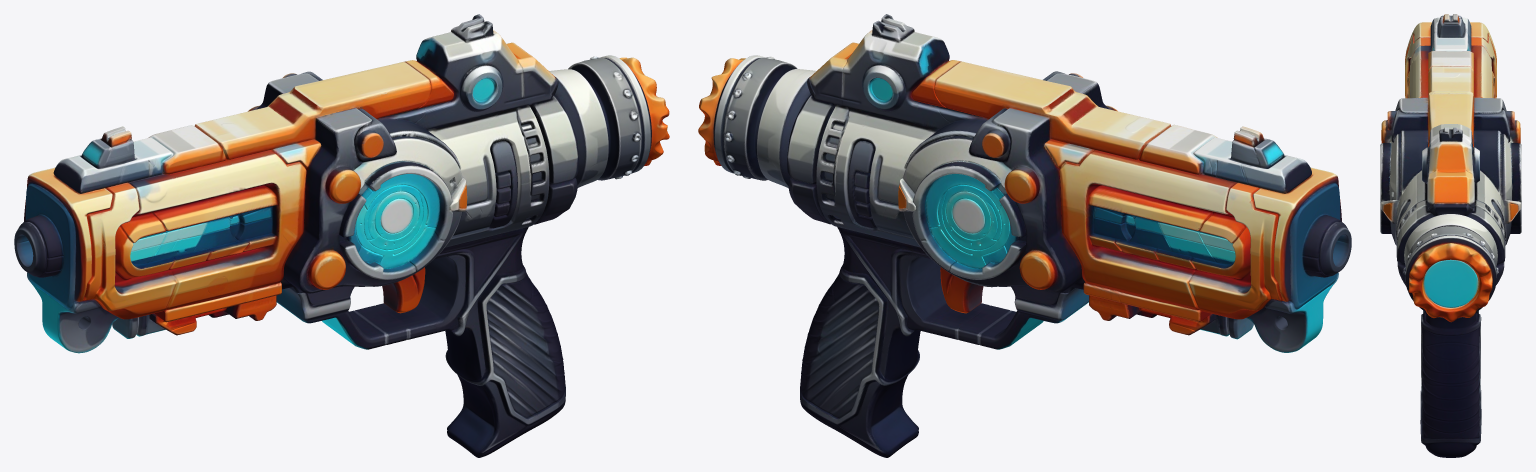
Rendered from Pistola.fbx.
The picture shows the model from 3 angles, left to right: view 1: azimuth 30°, elevation 25°; view 2: azimuth 150°, elevation 25°; view 3: azimuth 270°, elevation 25°; orthographic projection. The views are drawn at different scales.
Visible parts, largest first — view 1: tripo_node_a76ed473; view 2: tripo_node_a76ed473; view 3: tripo_node_a76ed473.
Boxes of the visible parts, <box> form: tripo_node_a76ed473: <box>14,14,669,457</box>; tripo_node_a76ed473: <box>698,14,1351,457</box>; tripo_node_a76ed473: <box>1380,14,1521,457</box>.
Bounding box in the file's own units: 0.9801 × 0.644 × 0.2583.
Materials: 1 (1 with a texture image).
